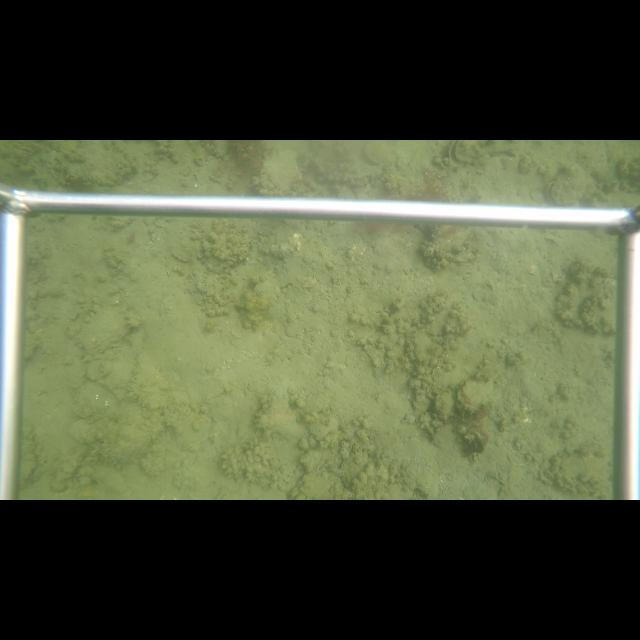Oyster-Closed: (455, 379, 495, 413)
Oyster-Open: (544, 162, 588, 206), (444, 141, 486, 166)
